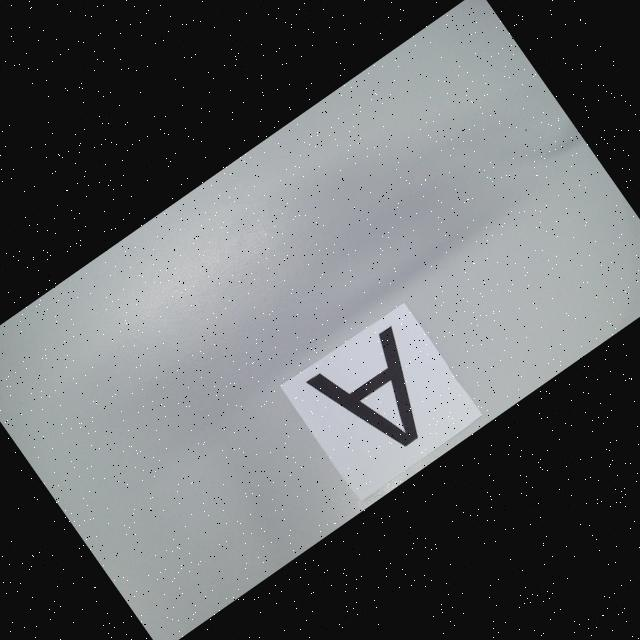FAKE: (306, 322, 453, 471)
